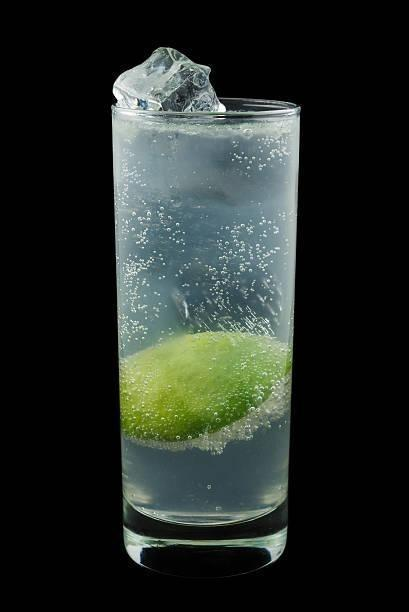glass-normal: (107, 94, 305, 582)
